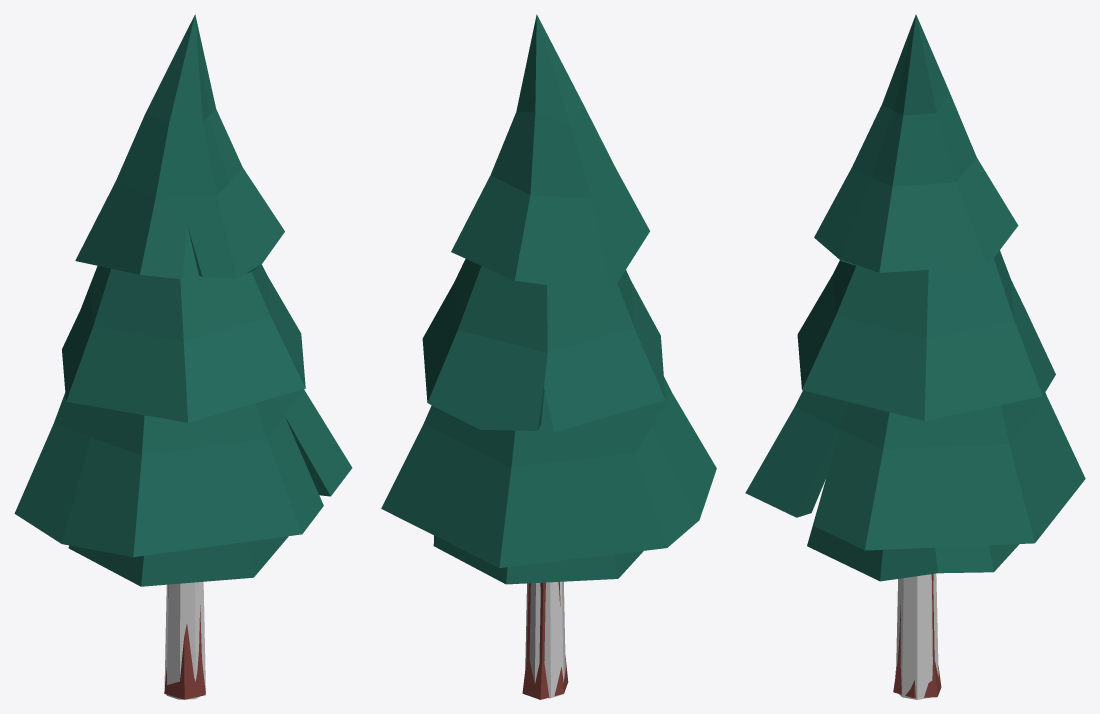
Rendered from floresta_tree_spruce_medium.glb.
3 views of the same model, side by side, from view 1: azimuth 30°, elevation 25°; view 2: azimuth 150°, elevation 25°; view 3: azimuth 270°, elevation 25° (orthographic).
Visible parts, largest first — view 1: Spruce middle f, Colisao; view 2: Spruce middle f, Colisao; view 3: Spruce middle f, Colisao.
Boxes of the visible parts, bbox=[...] form: Spruce middle f: bbox=[14, 14, 352, 699]; Colisao: bbox=[164, 581, 205, 699]; Spruce middle f: bbox=[381, 14, 716, 699]; Colisao: bbox=[525, 581, 565, 698]; Spruce middle f: bbox=[745, 14, 1085, 698]; Colisao: bbox=[896, 573, 938, 699].
Bounding box in the file's own units: 5.64 × 12.64 × 5.72.
